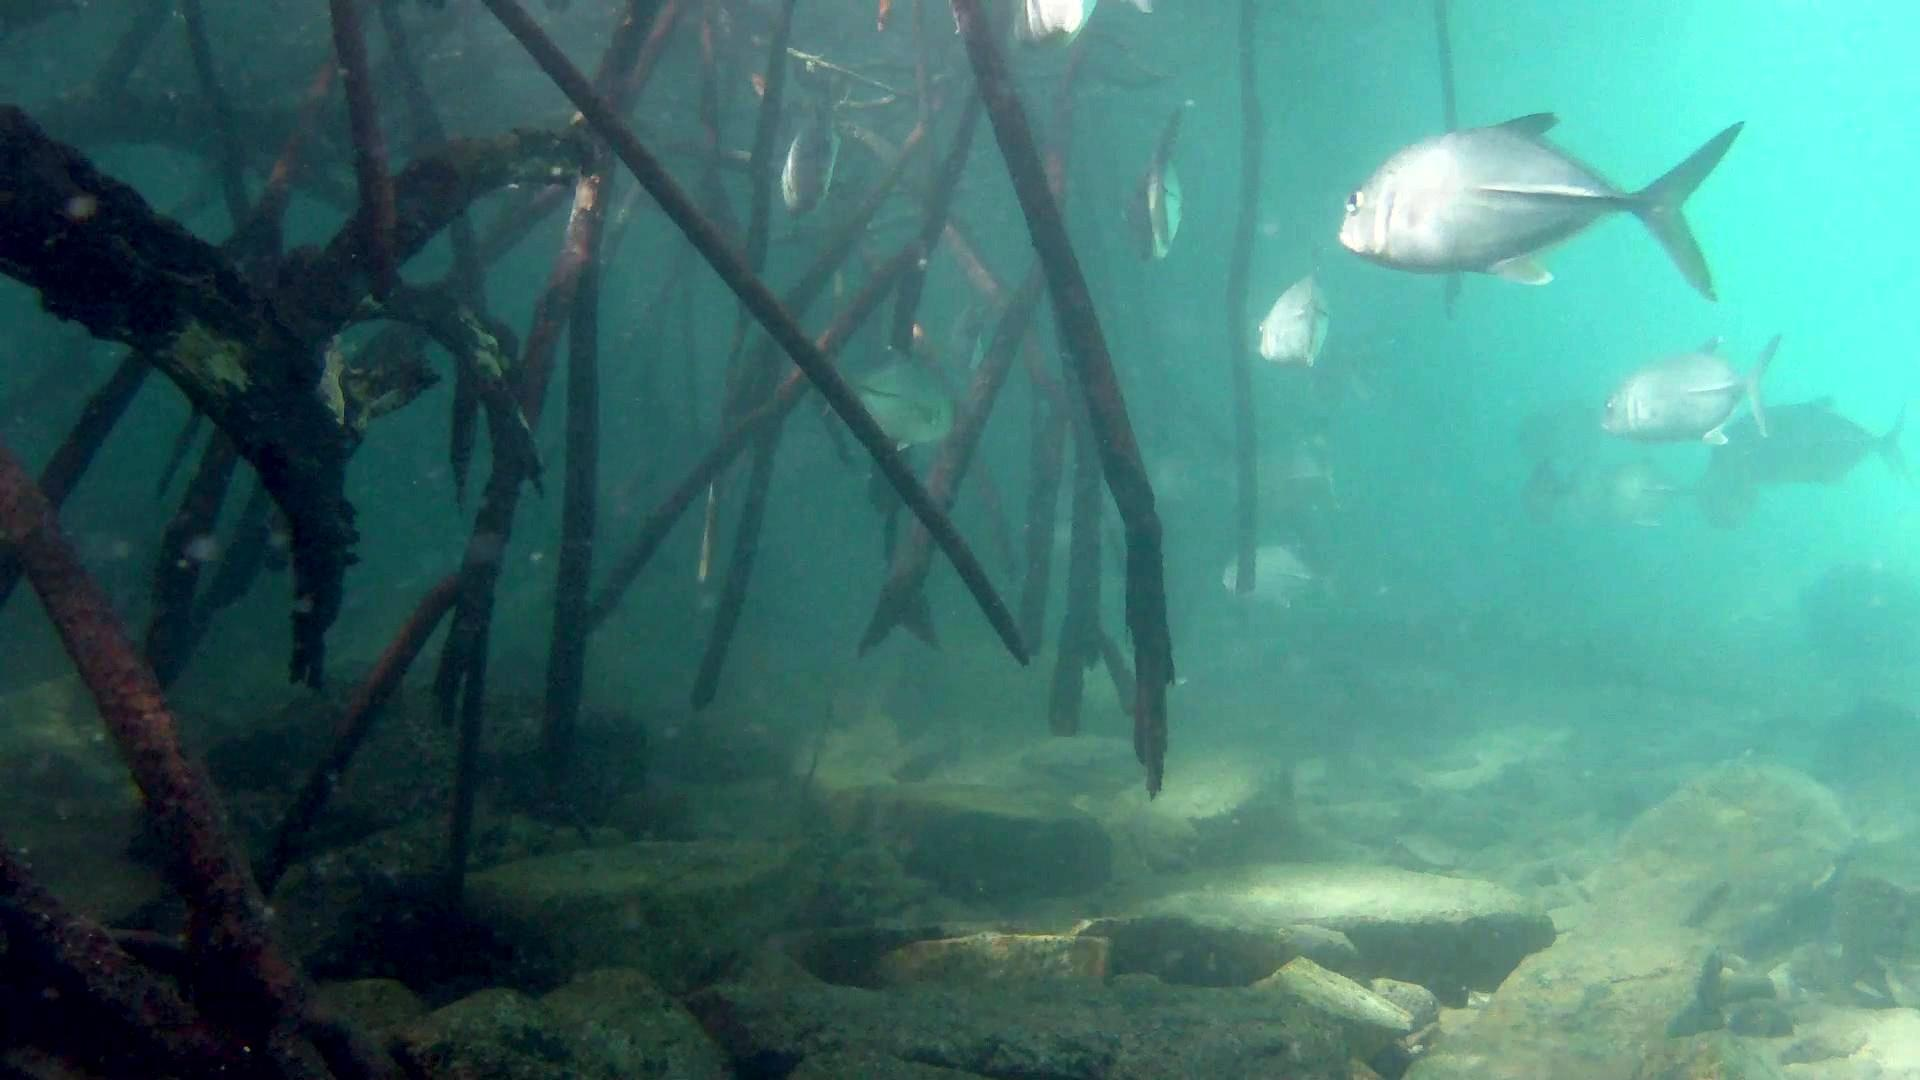caranx: (1326, 98, 1760, 309), (1586, 323, 1796, 457)
